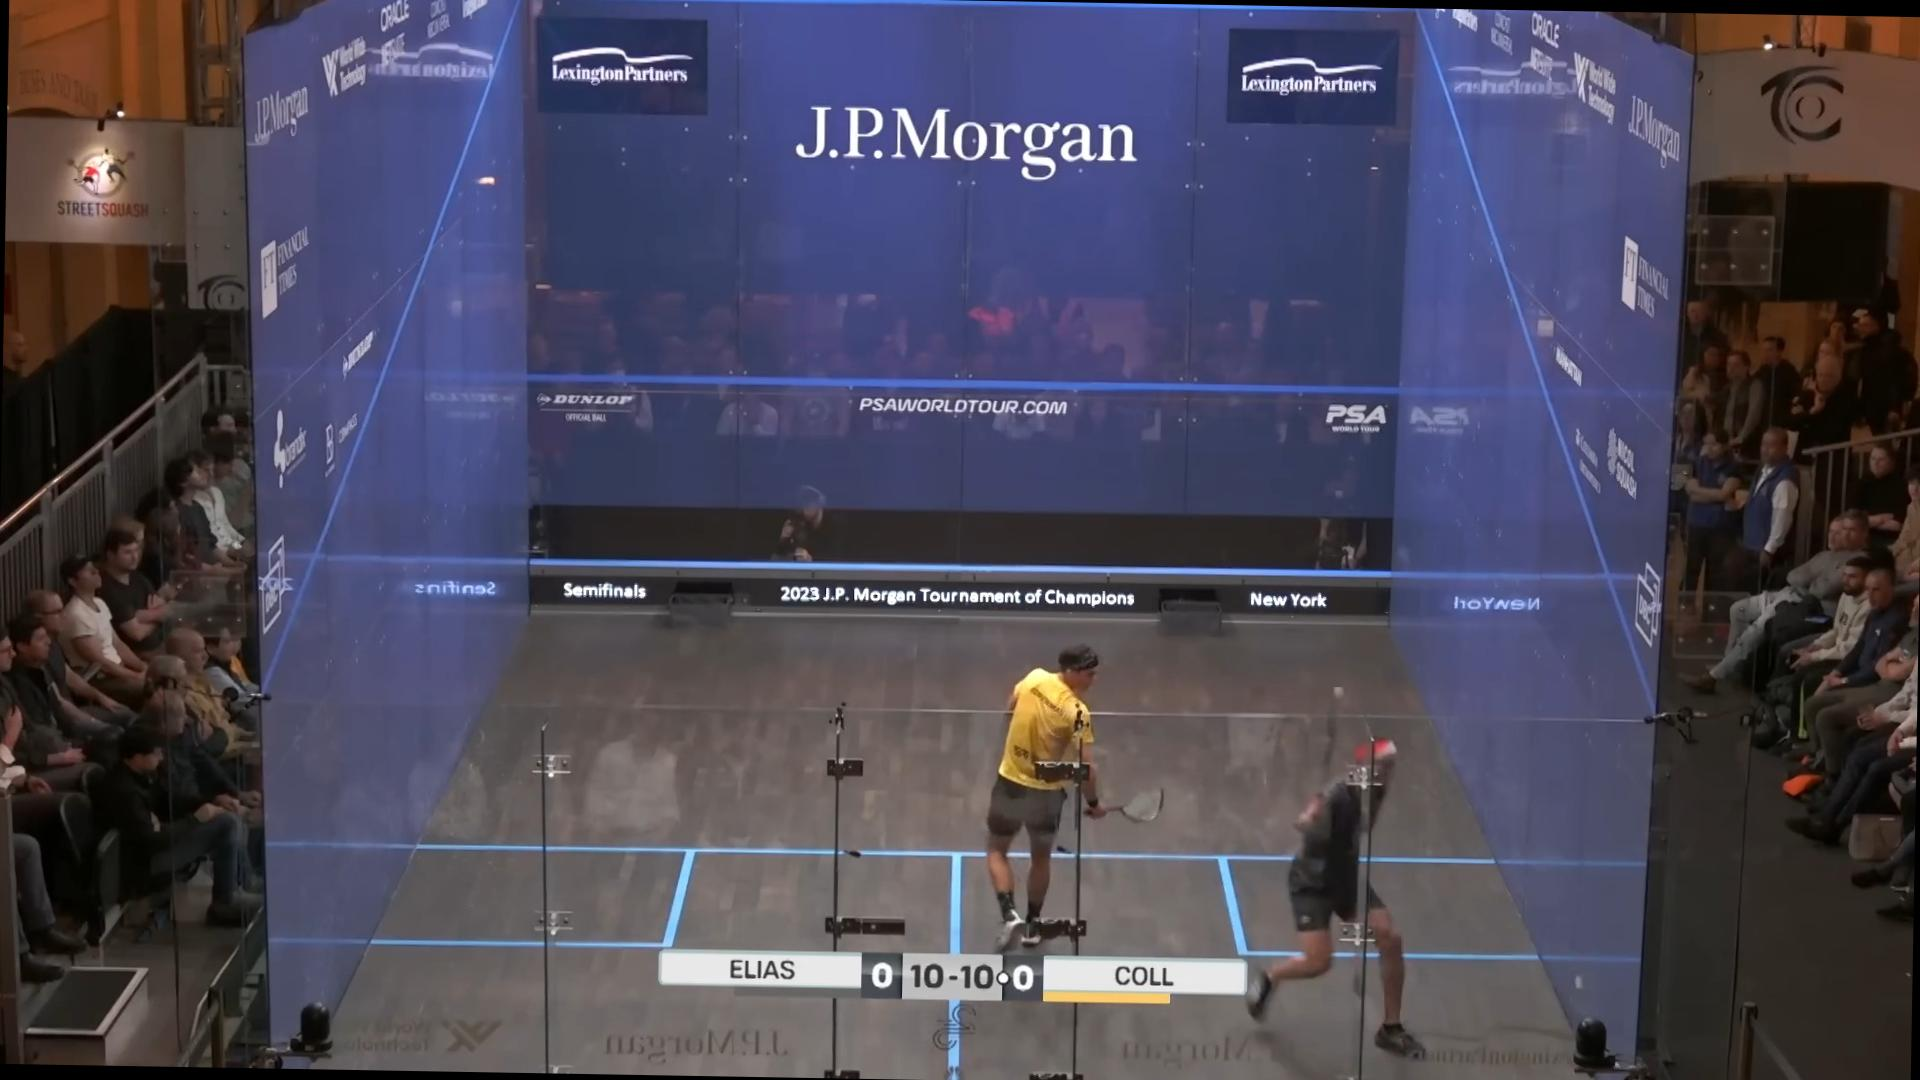Racket: (1104, 773, 1172, 833)
